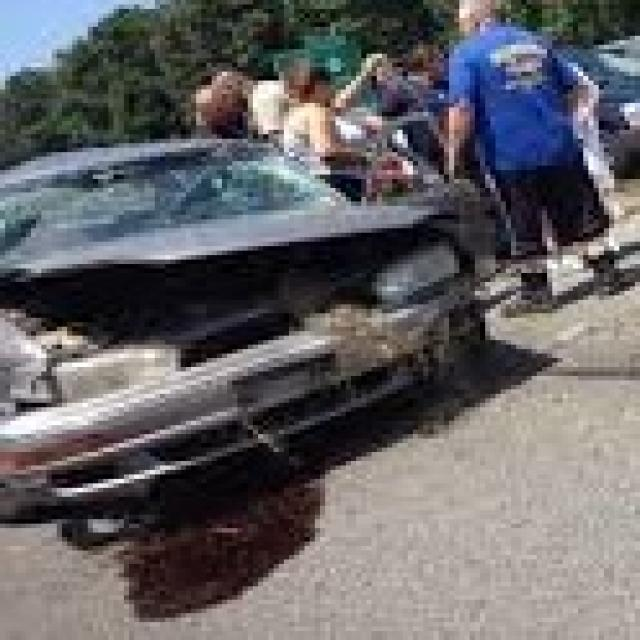moderate: (0, 217, 450, 345)
